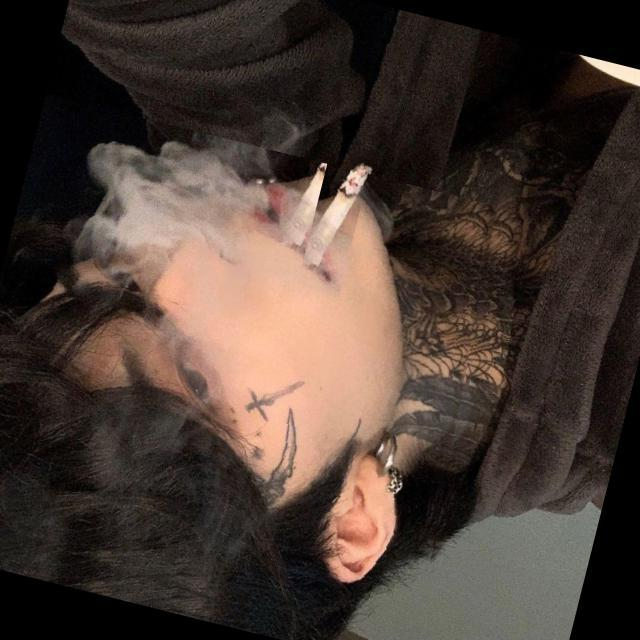cigarette: (298, 140, 377, 299)
